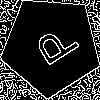P: (26, 21, 81, 73)
